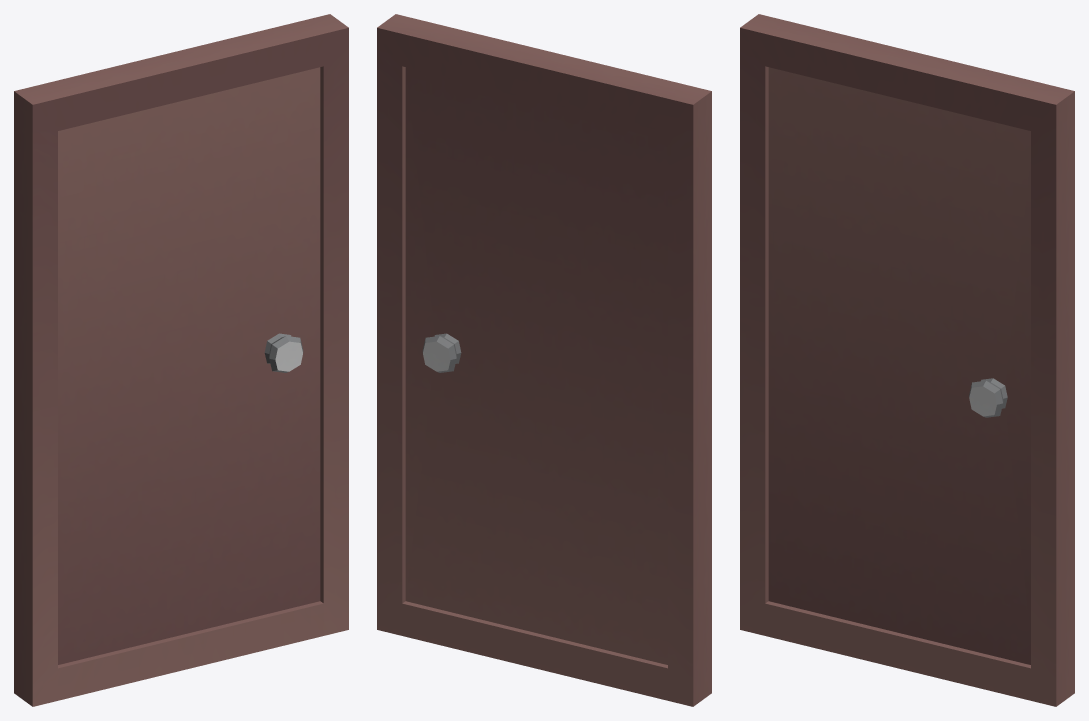
Rendered from door_3.glb.
3 renders of one model, left to right at view 1: azimuth 30°, elevation 25°; view 2: azimuth 150°, elevation 25°; view 3: azimuth 330°, elevation 25°, orthographic.
Visible parts, largest first — view 1: door_1; view 2: door_1; view 3: door_1.
Boxes of the visible parts, <box> form: door_1: <box>14,14,348,706</box>; door_1: <box>377,14,711,706</box>; door_1: <box>740,14,1074,706</box>.
Bounding box in the file's own units: 0.8007 × 1.46 × 0.1413.
1 material, 1 textured.
